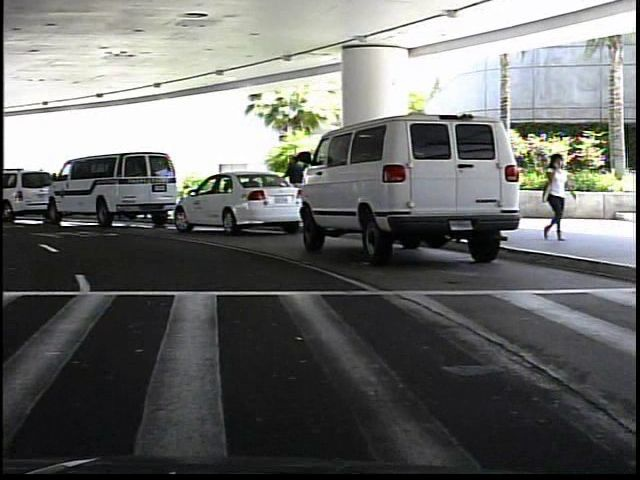person: (536, 148, 575, 243)
